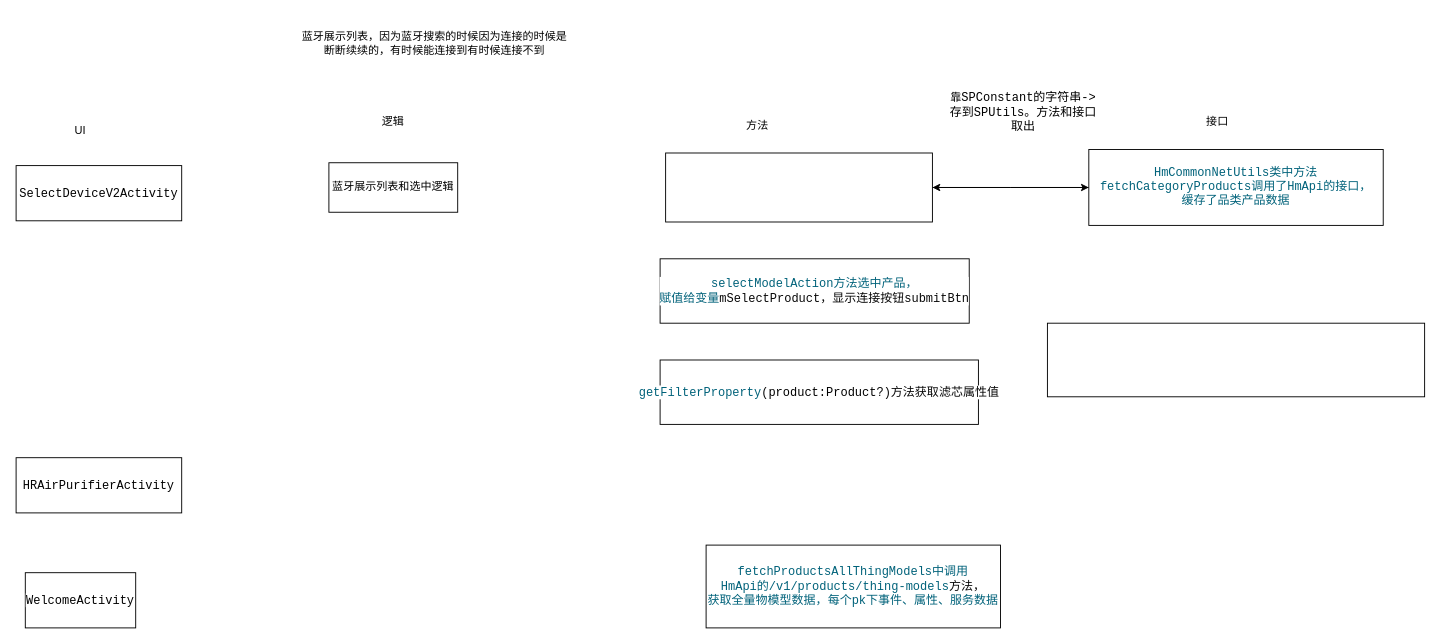
Image size: 1441x644. Some labels were removed from this diagram. The box of each missing label's shape, as (x1, y1, x2, y2) in pixels:
fetchDeviceProperty: (1046, 322, 1425, 397)
fetchListOfEquipmentModels中获取到品类产品 allDevicesModelsData列表: (665, 152, 932, 222)
